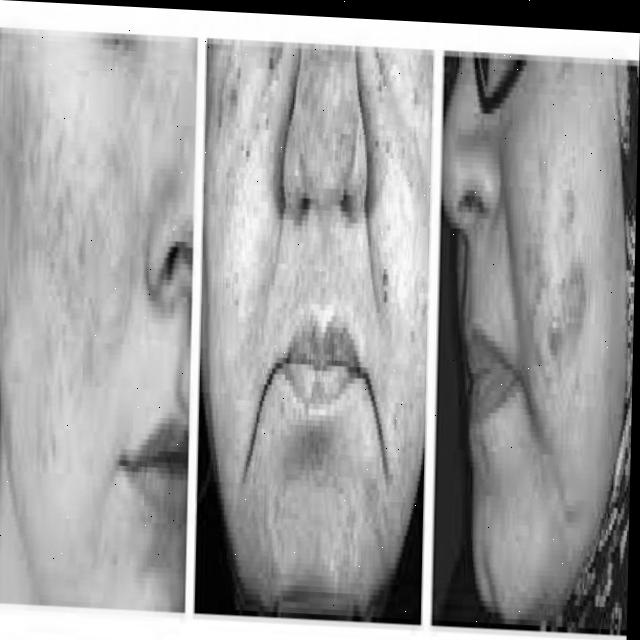Rosacea: (0, 89, 172, 434), (230, 54, 396, 173), (542, 190, 605, 344)
